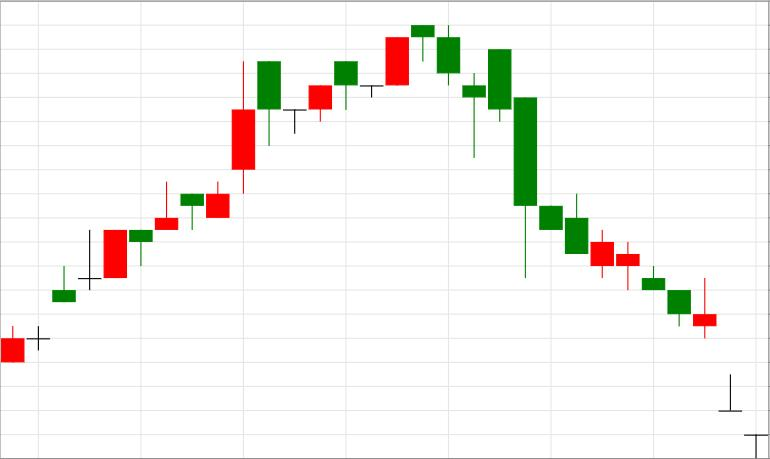evening_star_fall: (206, 25, 460, 218)
